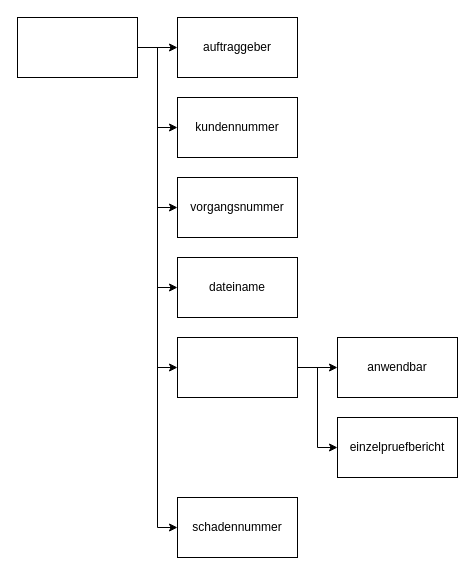
Image size: 475x575. Some labels were removed from this diagram. Each missing label, with the box of its shape:
claimsGuard: (176, 336, 298, 398)
Request: (16, 16, 138, 78)
